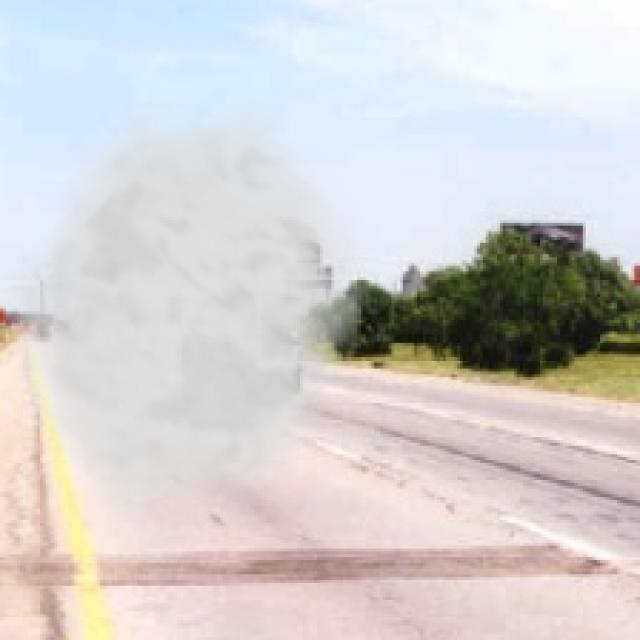Smoke: (3, 103, 380, 526)
